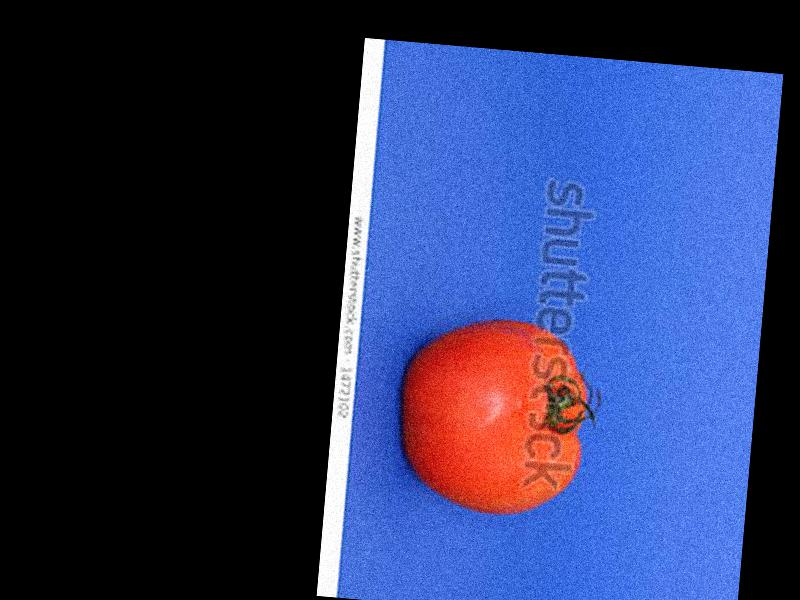Tomato: (395, 315, 594, 524)
